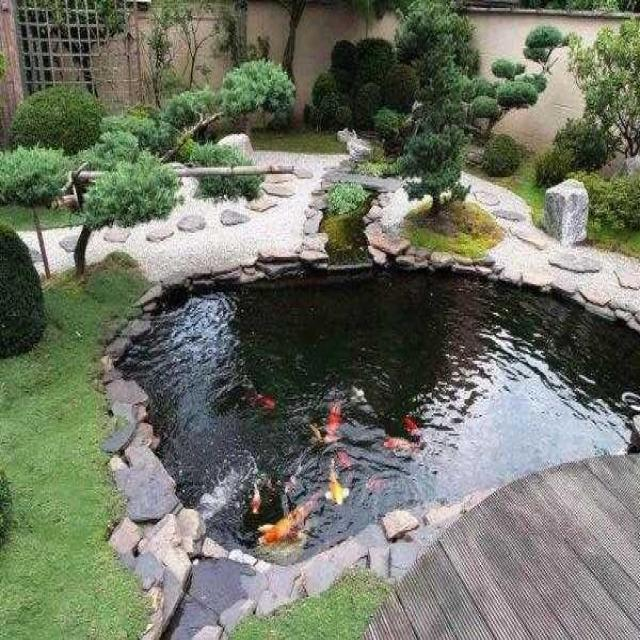Ponds: (102, 178, 640, 640)
